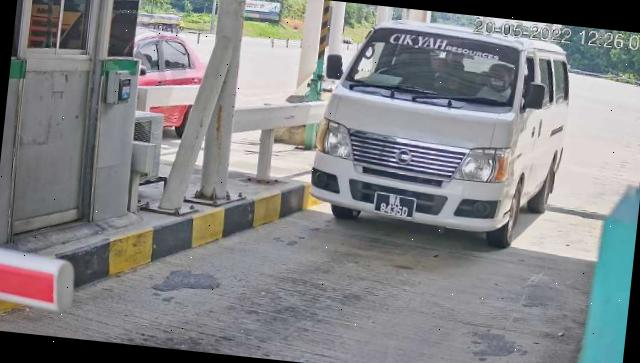License_Plate: (373, 192, 420, 223)
van: (306, 17, 576, 255)
